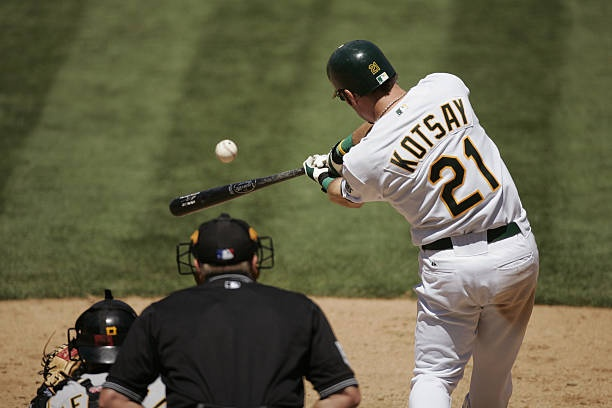bita: (169, 159, 322, 216)
